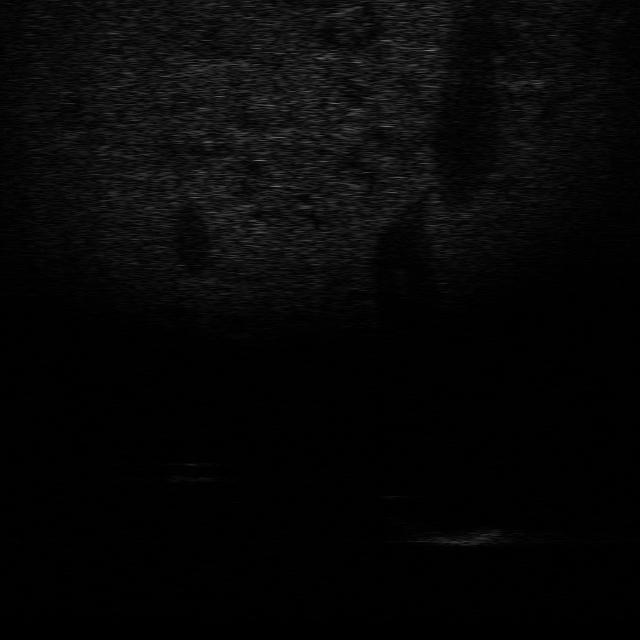ball: (161, 457, 219, 484)
metal bucket: (428, 521, 516, 550)
tyre: (374, 489, 436, 525)
